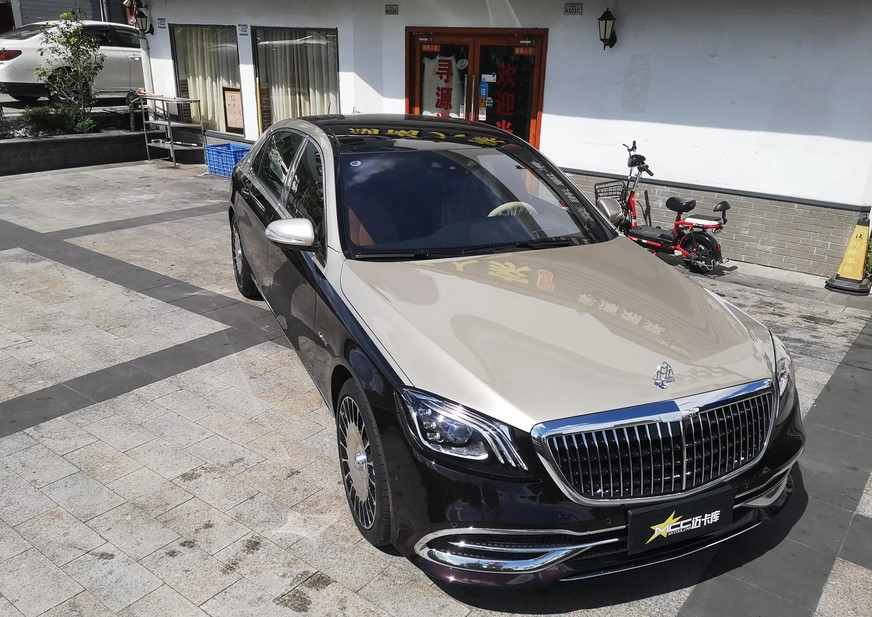car: (227, 111, 807, 589), (1, 20, 145, 107)
